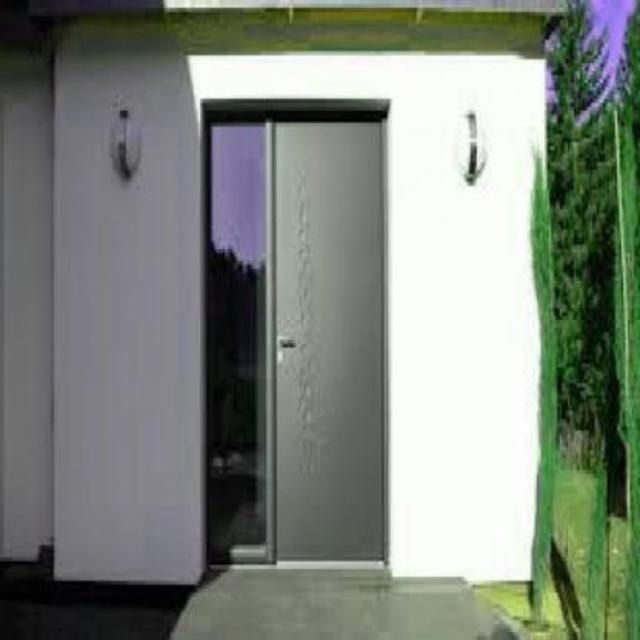door: (262, 79, 392, 591)
